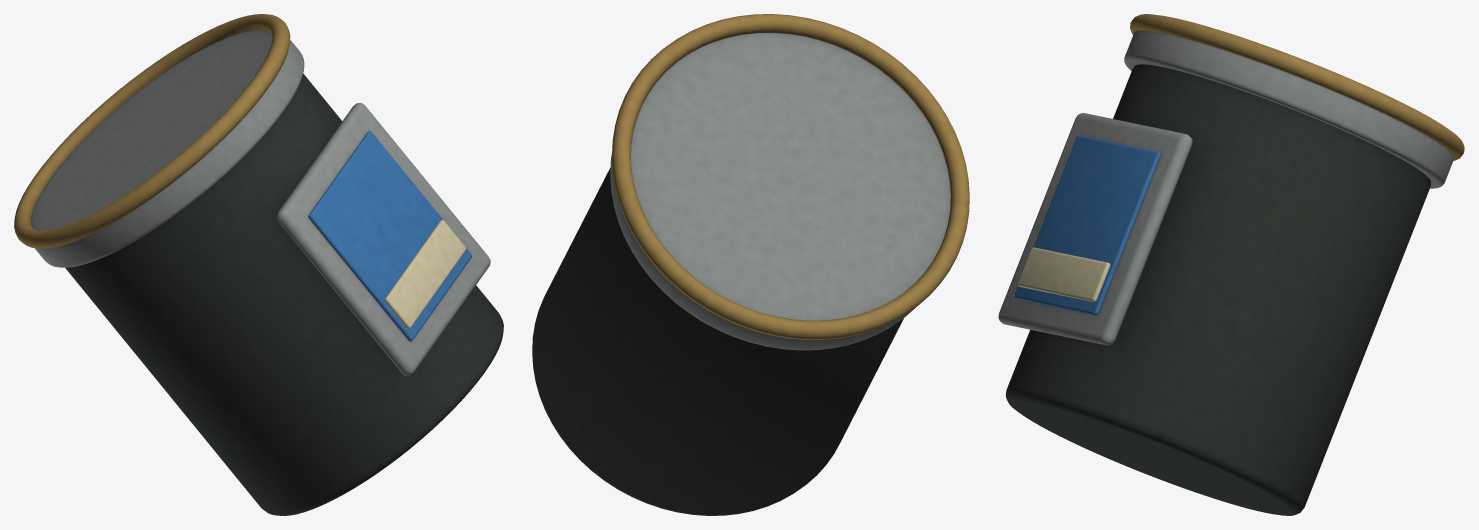
3 views of the same model, side by side, from view 1: azimuth 30°, elevation 25°; view 2: azimuth 150°, elevation 25°; view 3: azimuth 270°, elevation 25° (orthographic). The views are drawn at different scales.
Visible parts, largest first — view 1: Closed sample vessel; view 2: Closed sample vessel; view 3: Closed sample vessel.
Part boxes in pixels (x1,y1,x2,y2): Closed sample vessel: (14,14,503,515); Closed sample vessel: (532,14,969,515); Closed sample vessel: (998,14,1464,515).
Size of the model in its own units: 1.04 by 1.11 by 0.9893.
Materials: 1 (1 with a texture image).
